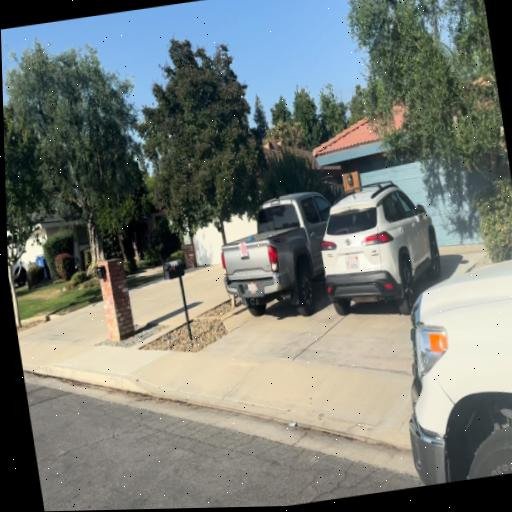bullseye: (240, 242, 248, 257)
